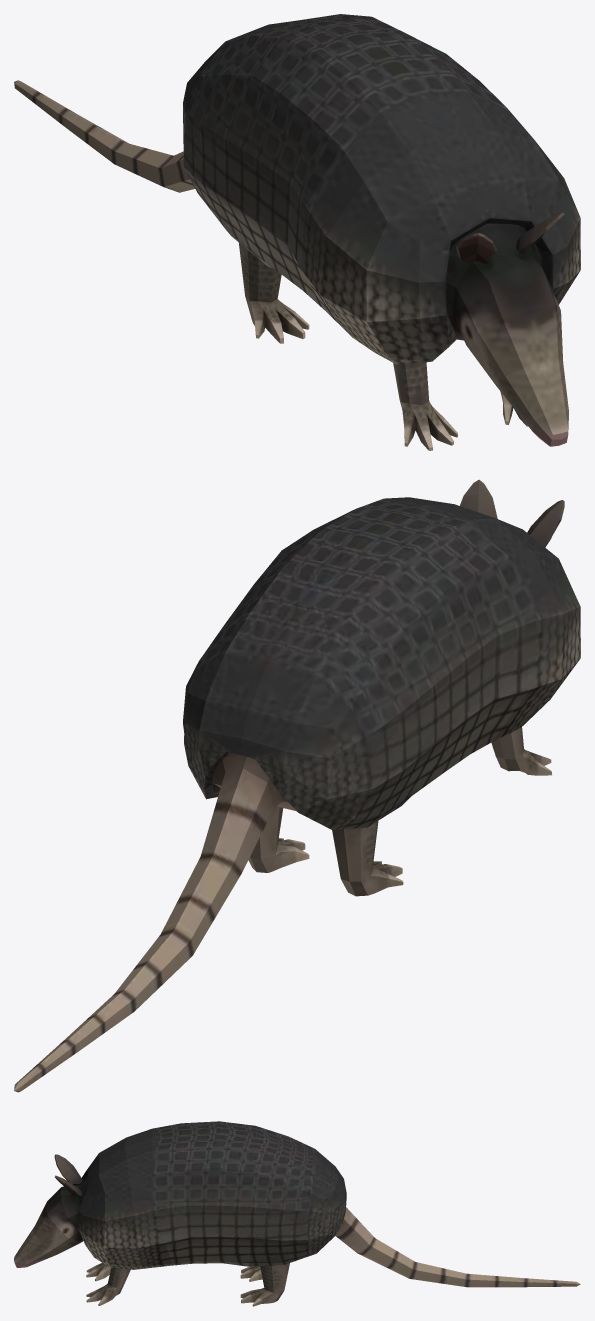
The model's file is animals-armadillo-004.glb.
3 renders of one model, top to bottom at view 1: azimuth 30°, elevation 25°; view 2: azimuth 150°, elevation 25°; view 3: azimuth 270°, elevation 25°, orthographic. The views are drawn at different scales.
Visible parts, largest first — view 1: Armadillo_Mesh; view 2: Armadillo_Mesh; view 3: Armadillo_Mesh.
Boxes of the visible parts, x1,y1,x2,y2 form: Armadillo_Mesh: (14,14,580,450); Armadillo_Mesh: (14,479,580,1092); Armadillo_Mesh: (14,1121,580,1306).
Size of the model in its own units: 2.79 by 3.36 by 10.95.
Materials: 1 (1 with a texture image).
